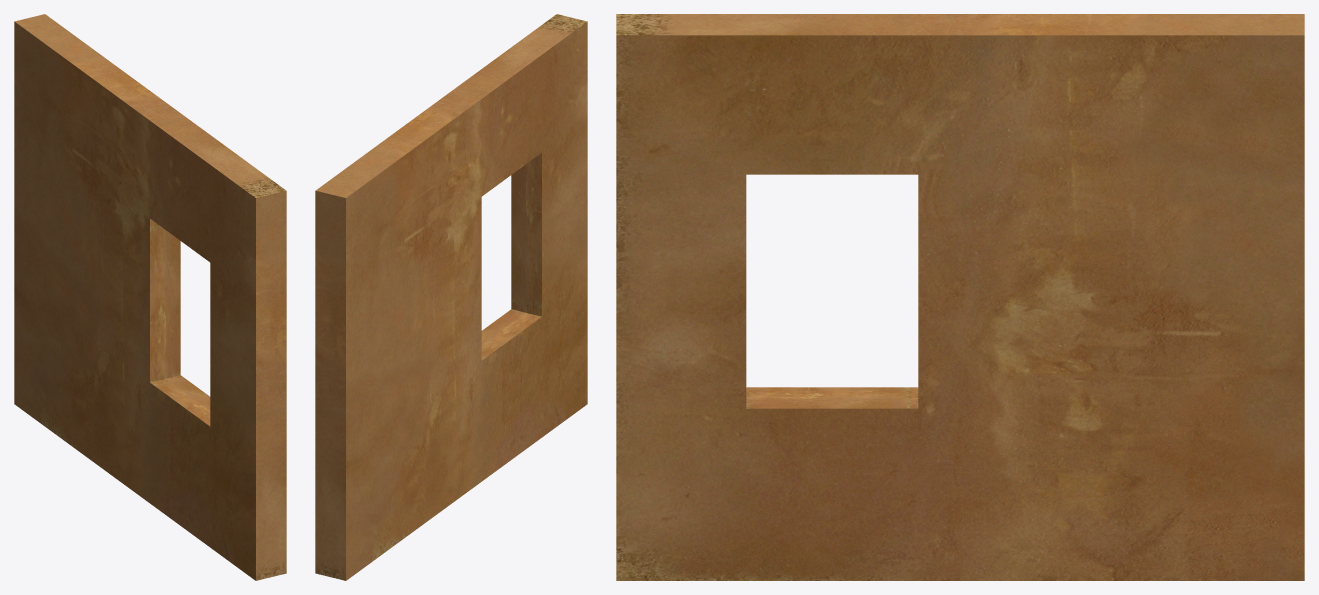
Rendered from OldHouseBrownWallLargeWindow.obj.
3 views of the same model, side by side, from view 1: azimuth 30°, elevation 25°; view 2: azimuth 150°, elevation 25°; view 3: azimuth 270°, elevation 25° (orthographic). The views are drawn at different scales.
Parts seen in each view (by area): view 1: Box02; view 2: Box02; view 3: Box02.
Part boxes in pixels (box(x1,y1,x2,y2)): Box02: box(14, 14, 286, 580); Box02: box(315, 14, 587, 580); Box02: box(616, 14, 1304, 580).
Size of the model in its own units: 0.2933 by 3.5 by 4.
1 material, 1 textured.
